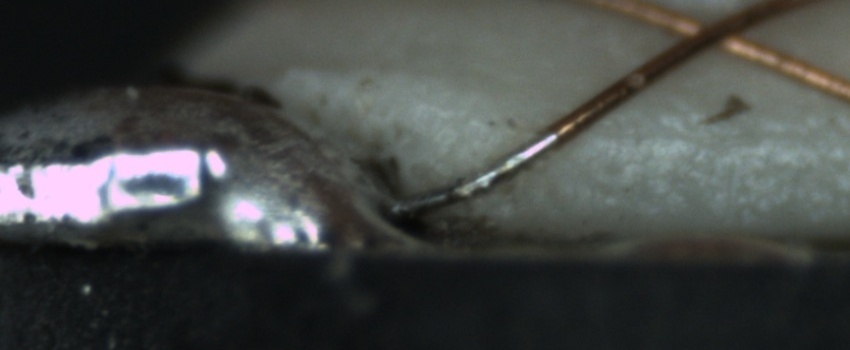CL: (653, 3, 777, 64)
DL: (583, 109, 849, 173)
TS: (394, 130, 559, 215)
